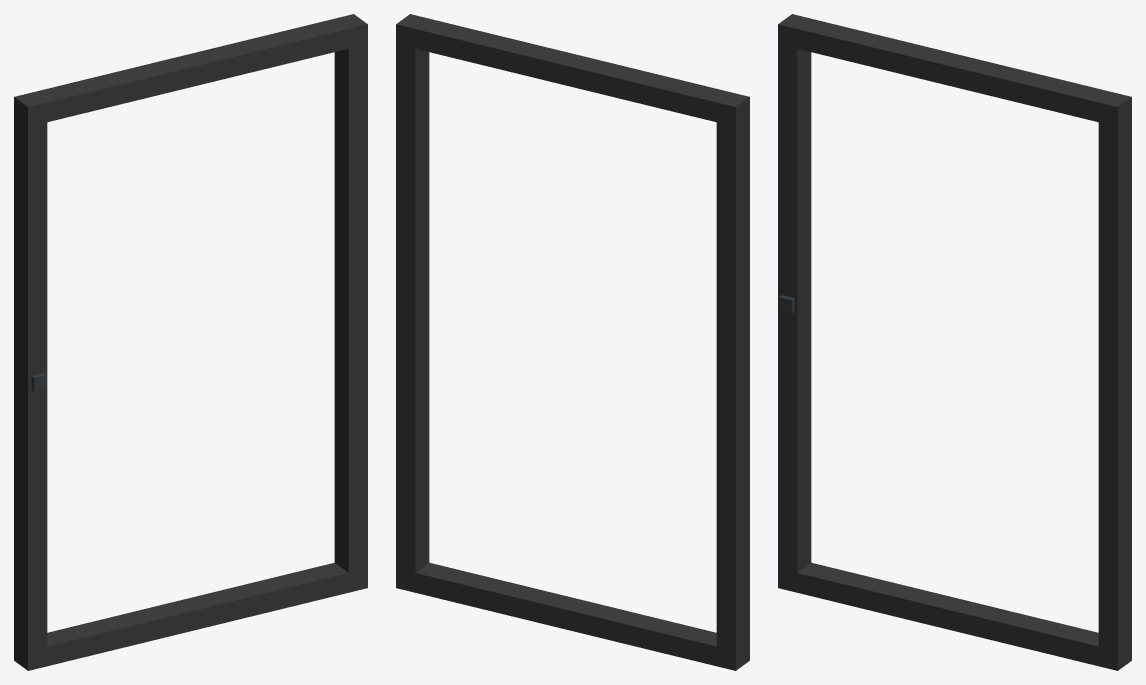
Rendered from Window6_01_2.fbx.
The picture shows the model from 3 angles, left to right: view 1: azimuth 30°, elevation 25°; view 2: azimuth 150°, elevation 25°; view 3: azimuth 330°, elevation 25°; orthographic projection.
Visible parts, largest first — view 1: Window6_01_2; view 2: Window6_01_2; view 3: Window6_01_2.
Boxes of the visible parts, left/top/right/bottom form: Window6_01_2: left=14, top=14, right=367, bottom=670; Window6_01_2: left=396, top=14, right=749, bottom=670; Window6_01_2: left=778, top=14, right=1131, bottom=670.
Bounding box in the file's own units: 71.67 × 114 × 6.08.
